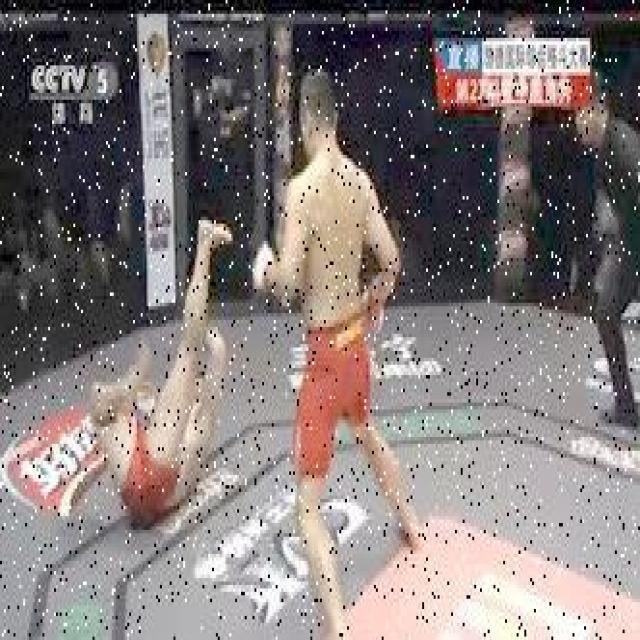fall: (85, 258, 225, 506)
